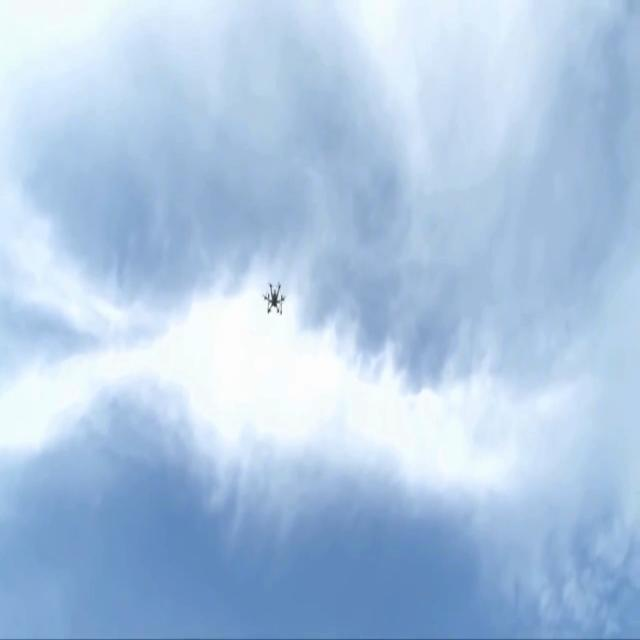drone: (263, 281, 285, 315)
